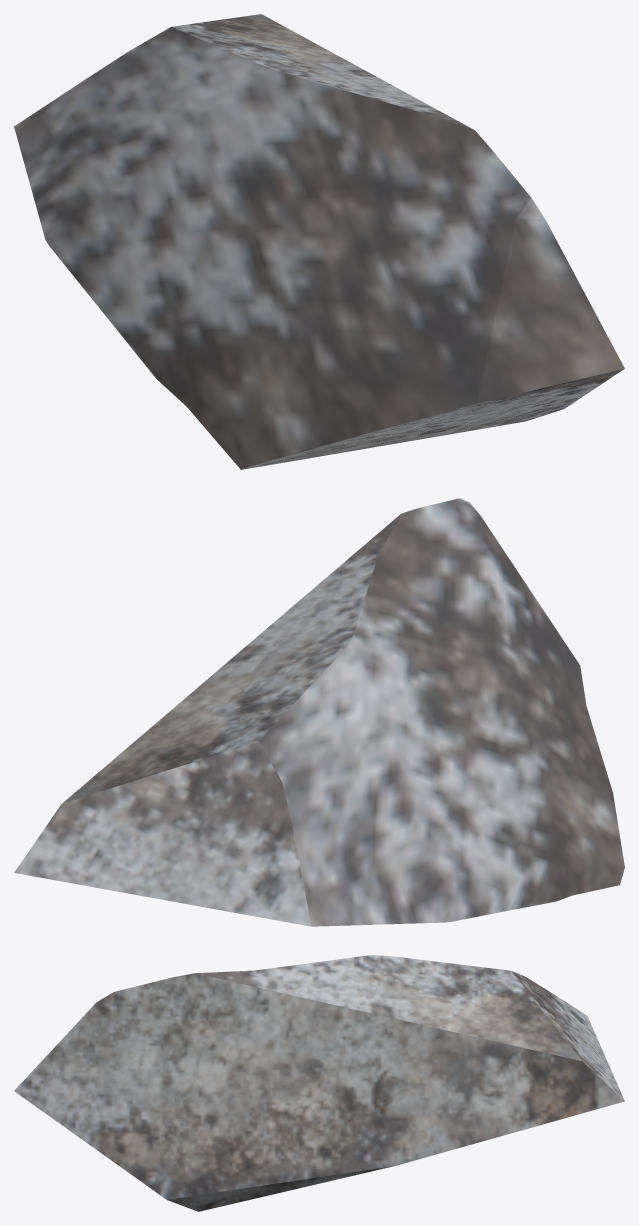
Rendered from Asteroid_Large_001_02_009_03_006.fbx.
3 views of the same model, one above another, from view 1: azimuth 30°, elevation 25°; view 2: azimuth 150°, elevation 25°; view 3: azimuth 270°, elevation 25° (orthographic). The views are drawn at different scales.
Parts seen in each view (by area): view 1: Asteroid_Large_001_02_009_03_006; view 2: Asteroid_Large_001_02_009_03_006; view 3: Asteroid_Large_001_02_009_03_006.
Boxes of the visible parts, x1,y1,x2,y2 form: Asteroid_Large_001_02_009_03_006: (14,14,624,469); Asteroid_Large_001_02_009_03_006: (14,498,624,926); Asteroid_Large_001_02_009_03_006: (14,955,624,1211).
Bounding box in the file's own units: 4.24 × 3.97 × 9.99.
